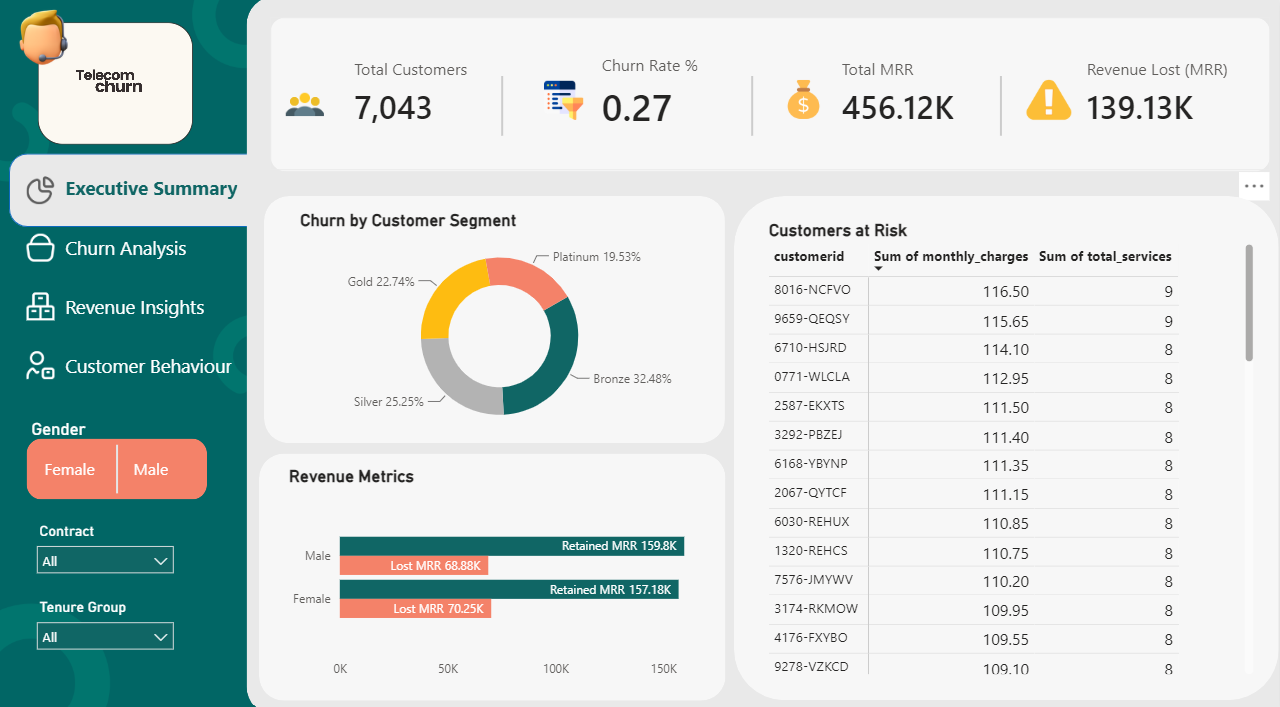

What the dashboard file says about the page in this screenshot:
{"tool":"powerbi","page":{"name":"Executive Summary","canvas":[1280,720],"ordinal":0},"visuals":[{"type":"cardVisual","fields":{"Data":["_Key_Measure.Total Customers"]},"box":[325.8,45.3,177.8,102.8],"z":0,"group":"g1"},{"type":"cardVisual","fields":{"Data":["_Key_Measure.Churn Rate %"]},"box":[573,45.3,169.4,102.8],"z":0,"group":"g2"},{"type":"cardVisual","fields":{"Data":["_Key_Measure.Total MRR"]},"box":[813.3,45.3,173.6,102.8],"z":0,"group":"g3"},{"type":"cardVisual","fields":{"Data":["_Key_Measure.Lost MRR"]},"box":[1059.2,45.3,200,102.8],"z":0,"group":"g4"},{"type":"shape","box":[9.7,156.9,255.6,73.6],"z":0},{"type":"advancedSlicerVisual","title":"Gender","fields":{"Values":["customer_churn_clean.gender"]},"box":[27.8,422.2,180.6,80.6],"z":0,"group":"g10"},{"type":"shape","box":[247.2,0,1033.3,719.4],"z":1000},{"type":"image","box":[783.3,73.6,41.7,59.7],"z":1000,"group":"g3"},{"type":"image","box":[1027.8,73.6,44.4,59.7],"z":1000,"group":"g4"},{"type":"image","box":[284.7,80.6,41.7,55.6],"z":1000,"group":"g1"},{"type":"image","box":[544.4,80.6,38.9,48.6],"z":1000,"group":"g2"},{"type":"shape","box":[87.5,448.6,61.1,48.6],"z":1000,"group":"g10"},{"type":"shape","box":[271.3,21.3,1000,154.3],"z":2000},{"type":"group","id":"g1","title":"Group 1","box":[284.7,45.3,218.9,102.8],"z":3000},{"type":"group","id":"g2","title":"Group 2","box":[544.4,45.3,198.1,102.8],"z":4000},{"type":"group","id":"g3","title":"Group 3","box":[783.3,45.3,203.6,102.8],"z":5000},{"type":"group","id":"g4","title":"Group 4","box":[1027.8,45.3,231.4,102.8],"z":6000},{"type":"shape","box":[477.8,80.6,51.4,59.7],"z":7000},{"type":"shape","box":[727.1,80.6,51.4,59.7],"z":8000},{"type":"shape","box":[265.3,200,461.1,247.2],"z":8500,"group":"g6"},{"type":"shape","box":[259.7,456.9,466.7,247.2],"z":9000},{"type":"shape","box":[976.4,80.6,51.4,59.7],"z":10000},{"type":"group","id":"g5","title":"Group 5","box":[265.3,200,461.1,247.2],"z":11000},{"type":"donutChart","title":"Churn by Customer Segment","fields":{"Category":["customer_churn_clean.customer_value_segment"],"Y":["Sum(customer_churn_clean.churn_value)"]},"box":[296.3,213.4,408.9,233.9],"z":11000,"group":"g6"},{"type":"group","id":"g6","title":"Group 6","box":[265.3,200,461.1,247.2],"z":11002,"group":"g5"},{"type":"clusteredBarChart","title":"Revenue Metrics","fields":{"Y":["_Key_Measure.Retained MRR","_Key_Measure.Lost MRR"],"Category":["customer_churn_clean.gender"]},"box":[284.7,469.4,419.4,220.8],"z":12000},{"type":"shape","box":[735.1,200,544.7,504.3],"z":13000},{"type":"pivotTable","title":"Customers at Risk","fields":{"Rows":["customer_churn_clean.customerid"],"Values":["Sum(customer_churn_clean.monthly_charges)","Sum(customer_churn_clean.total_services)"]},"box":[764.9,223.4,494.7,459.6],"z":14000},{"type":"pageNavigator","box":[66.7,162.5,180.6,237.5],"z":15000},{"type":"image","box":[27.8,173.6,27.8,40.3],"z":15000,"group":"g8"},{"type":"image","box":[27.8,230.5,27.8,40.3],"z":16000,"group":"g8"},{"type":"slicer","title":"Contract","fields":{"Values":["customer_churn_clean.contract"]},"box":[27.8,520.8,156.9,59.7],"z":16000},{"type":"image","box":[27.8,290.3,27.8,40.3],"z":17000,"group":"g8"},{"type":"group","id":"g7","title":"Group 7","box":[27.8,422.2,180.6,80.6],"z":17000},{"type":"image","box":[38.9,25.8,155.6,122.8],"z":18000,"group":"g9"},{"type":"group","id":"g8","title":"Group 9","box":[27.8,173.6,27.8,215.3],"z":18000},{"type":"image","box":[27.8,348.6,27.8,40.3],"z":18000,"group":"g8"},{"type":"group","id":"g9","title":"Group 10","box":[0,11.1,194.4,137.5],"z":19000},{"type":"slicer","title":"Contract","fields":{"Values":["customer_churn_clean.tenure_group"]},"box":[27.8,597.2,156.9,93.1],"z":19001},{"type":"image","box":[0,11.1,86.9,61.4],"z":19500,"group":"g9"},{"type":"shape","box":[27.8,441.6,180.6,61.1],"z":20000,"group":"g7"},{"type":"group","id":"g10","title":"Group 8","box":[27.8,422.2,180.6,80.6],"z":21003,"group":"g7"}]}

Visuals, with their boxes on the page's 1280x720 design canvas (x1, y1, x2, y2). These are canvas units, not pixel positions in the 1280x707 screenshot, which may show the page scaled, cropped or inside an application window:
cardVisual - _Key_Measure.Total Customers: 326 45 504 148
cardVisual - _Key_Measure.Churn Rate %: 573 45 742 148
cardVisual - _Key_Measure.Total MRR: 813 45 987 148
cardVisual - _Key_Measure.Lost MRR: 1059 45 1259 148
shape: 10 157 265 230
"Gender" advancedSlicerVisual: 28 422 208 503
shape: 247 0 1280 719
image: 783 74 825 133
image: 1028 74 1072 133
image: 285 81 326 136
image: 544 81 583 129
shape: 88 449 149 497
shape: 271 21 1271 176
"Group 1" group: 285 45 504 148
"Group 2" group: 544 45 742 148
"Group 3" group: 783 45 987 148
"Group 4" group: 1028 45 1259 148
shape: 478 81 529 140
shape: 727 81 778 140
shape: 265 200 726 447
shape: 260 457 726 704
shape: 976 81 1028 140
"Group 5" group: 265 200 726 447
"Churn by Customer Segment" donutChart: 296 213 705 447
"Group 6" group: 265 200 726 447
"Revenue Metrics" clusteredBarChart: 285 469 704 690
shape: 735 200 1280 704
"Customers at Risk" pivotTable: 765 223 1260 683
pageNavigator: 67 162 247 400
image: 28 174 56 214
image: 28 230 56 271
"Contract" slicer: 28 521 185 580
image: 28 290 56 331
"Group 7" group: 28 422 208 503
image: 39 26 194 149
"Group 9" group: 28 174 56 389
image: 28 349 56 389
"Group 10" group: 0 11 194 149
"Contract" slicer: 28 597 185 690
image: 0 11 87 72
shape: 28 442 208 503
"Group 8" group: 28 422 208 503
